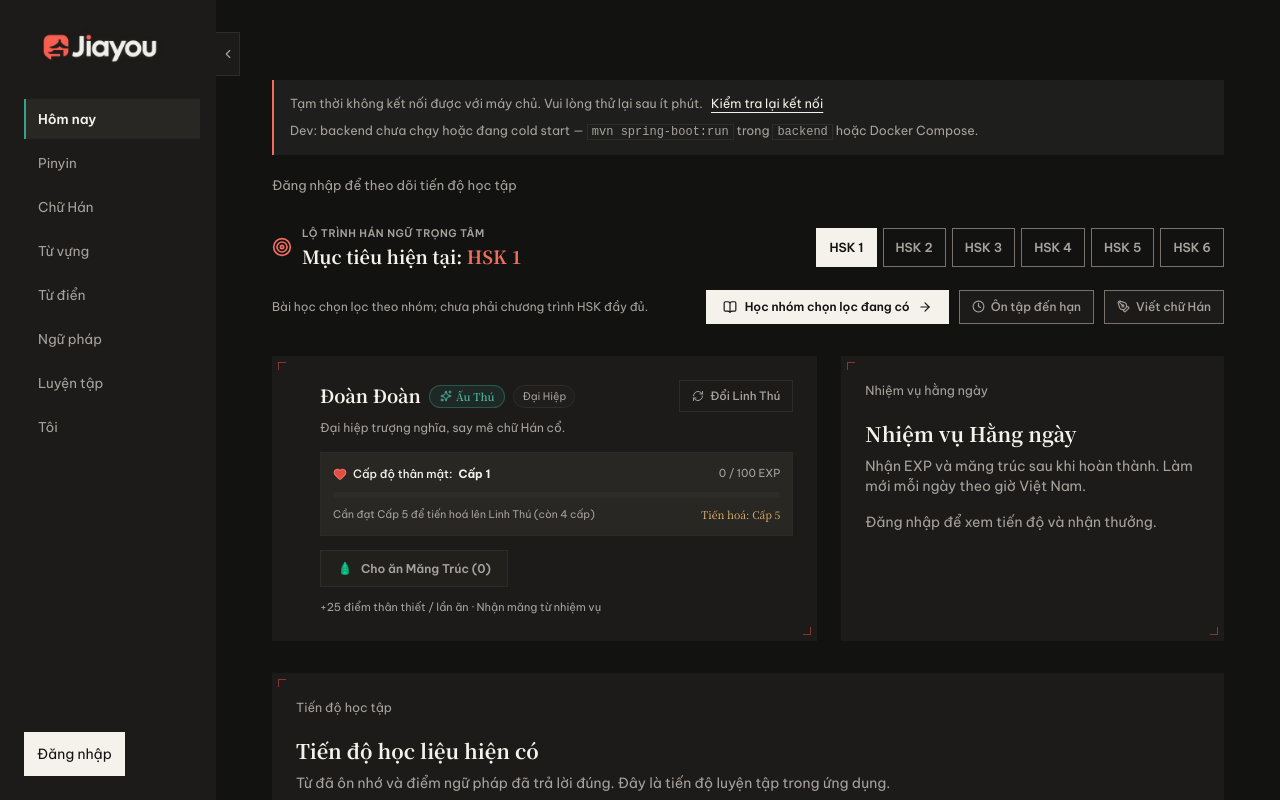
manual retry recovers without reload and ignores a late failed health response
Click the button "Kiểm tra lại kết nối".
click(767, 103)  # box [711,92,823,114]
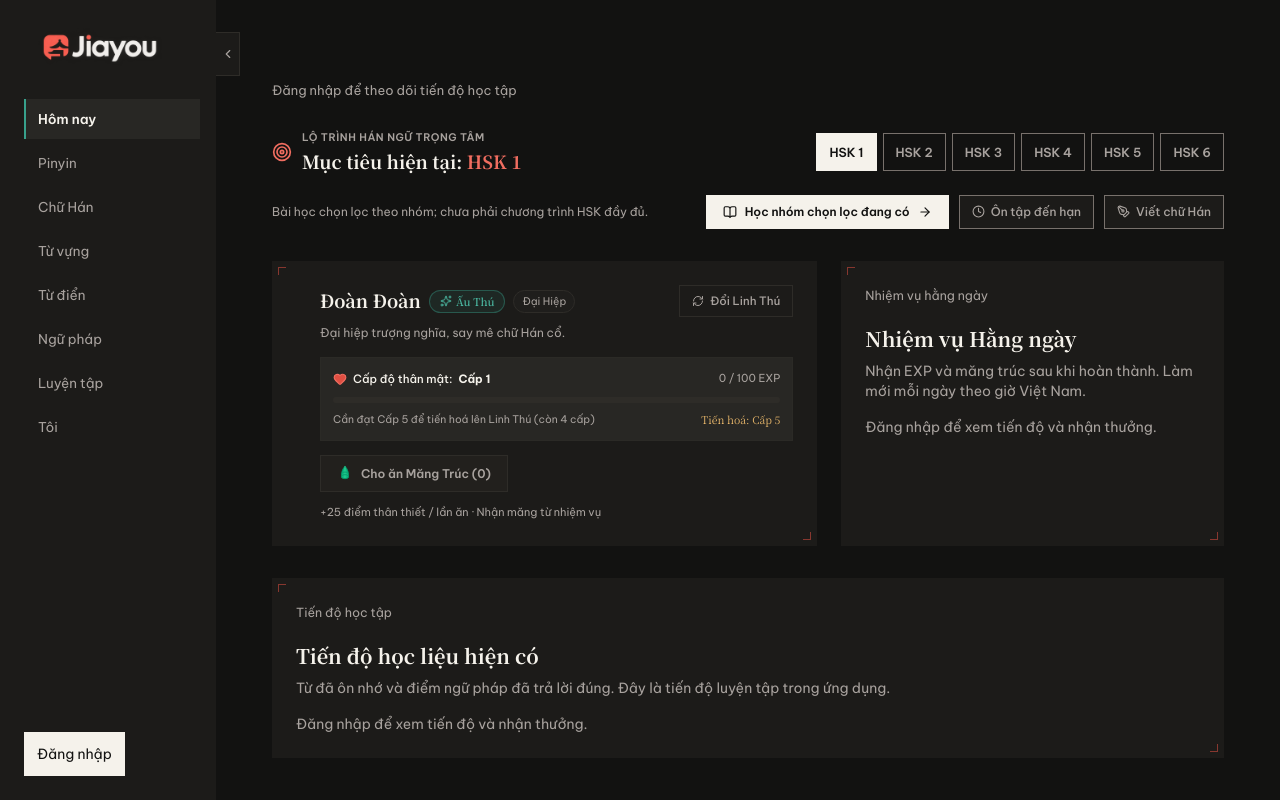
expect the button "Kiểm tra lại kết nối" is gone: met
